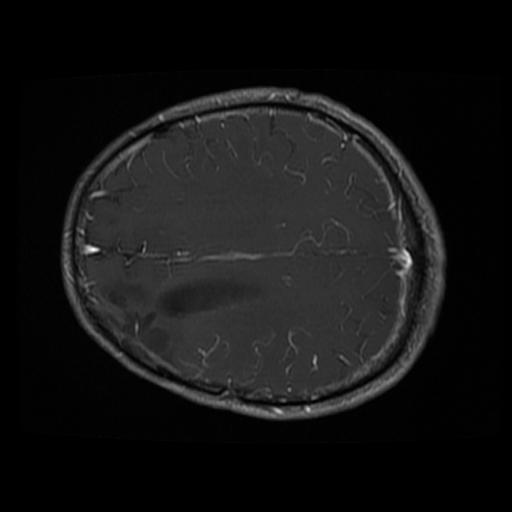glioma: (94, 277, 261, 368)
